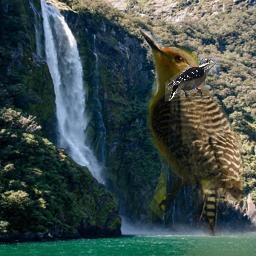Woodpecker: (138, 29, 244, 236), (165, 58, 220, 101)
